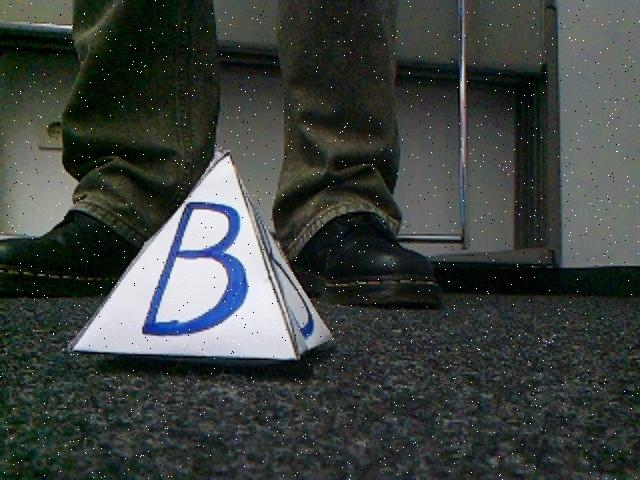B: (84, 151, 338, 363)
